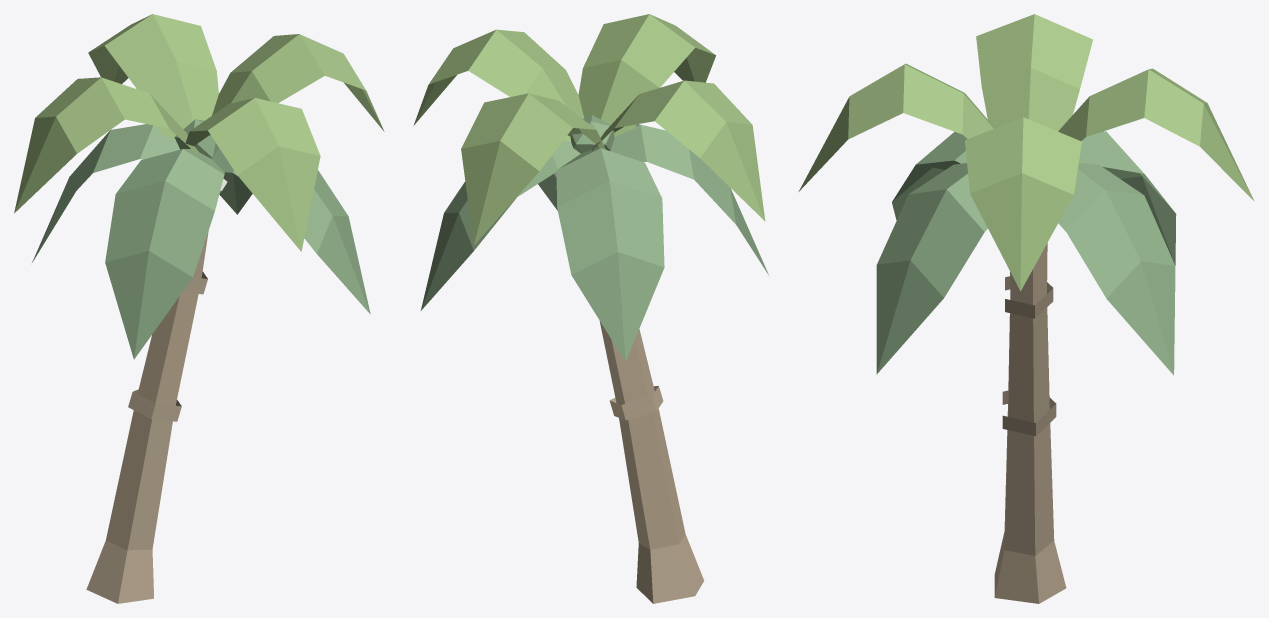
The model's file is palm.glb.
3 views of the same model, side by side, from view 1: azimuth 30°, elevation 25°; view 2: azimuth 150°, elevation 25°; view 3: azimuth 270°, elevation 25° (orthographic). The views are drawn at different scales.
Visible parts, largest first — view 1: tree_palm; view 2: tree_palm; view 3: tree_palm.
Part boxes in pixels (x1=…): tree_palm: x1=14, y1=14, x2=384, y2=603; tree_palm: x1=413, y1=14, x2=768, y2=603; tree_palm: x1=798, y1=14, x2=1254, y2=603.
Size of the model in its own units: 0.6328 by 0.8642 by 0.6327.
